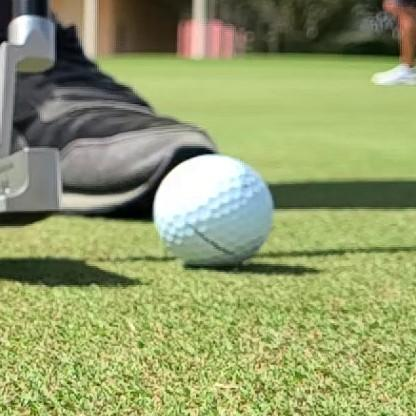golfball: (154, 155, 273, 266)
